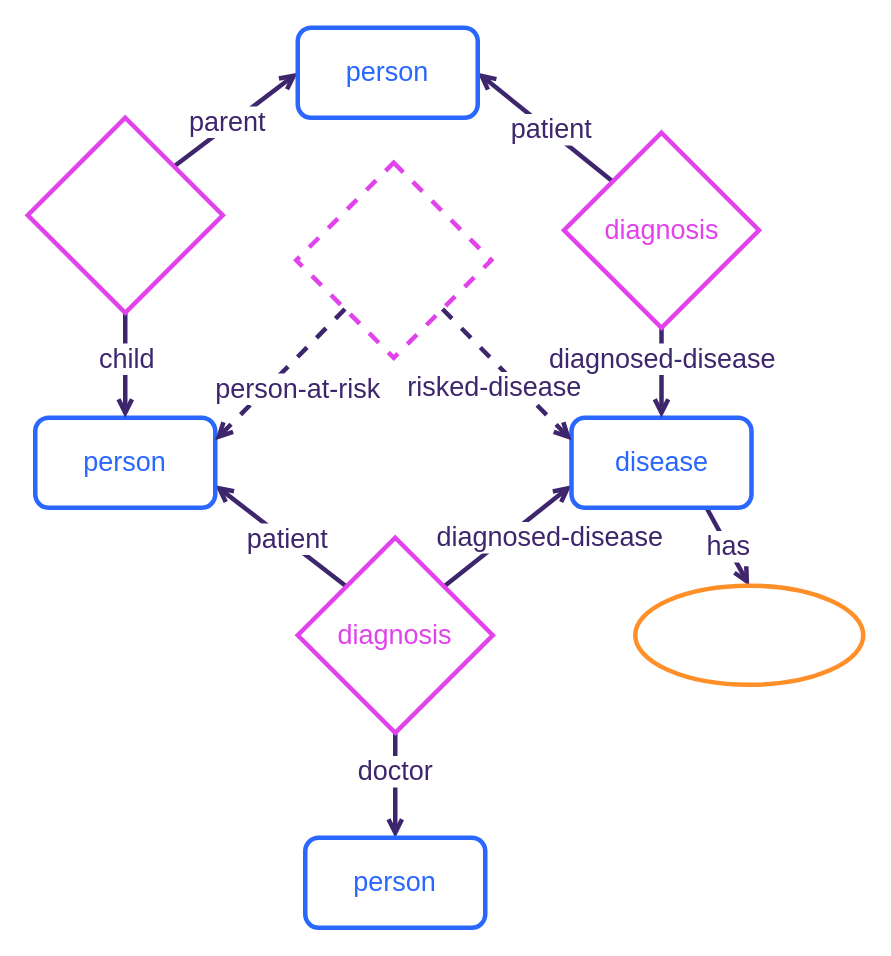
The diagram is 891 pixels wide and 956 high, and some of its shapes have lost their labels. The shapes that lost their labels are listed below. From the top down, each one's box as (x1, y1, x2, y2) in pixels, then its label:
(25, 115, 224, 314): parentship
(293, 160, 493, 359): hereditary- risk-factor
(632, 583, 865, 686): name "Diabetes Type II"
